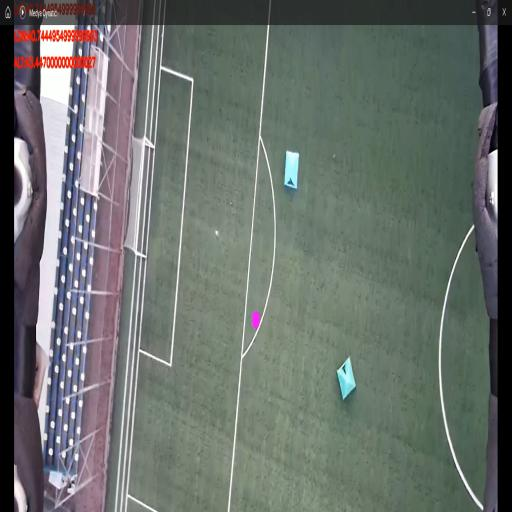tent: (336, 353, 357, 403), (283, 150, 300, 193)
